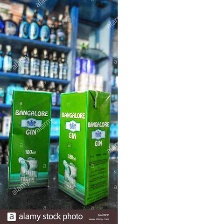carton: (56, 87, 111, 205), (5, 87, 53, 192)
